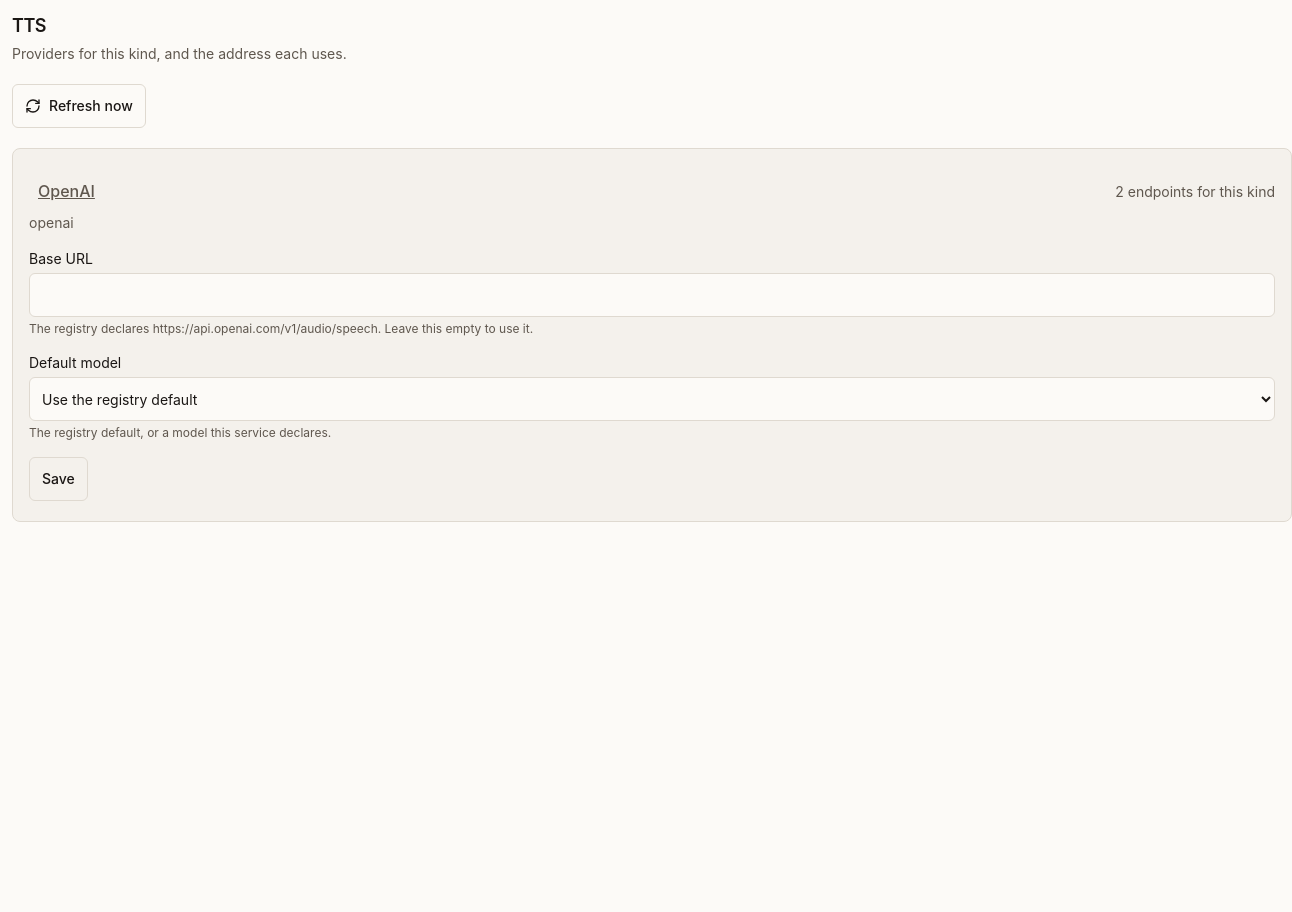
Test: what reaches the wire › refuses a value the API could not dial, without asking the server
This screenshot has width=1292, height=912.
Type "api.example.com/v1" into the field labelled "Base URL" at (652, 295), box [29,273,1275,317]
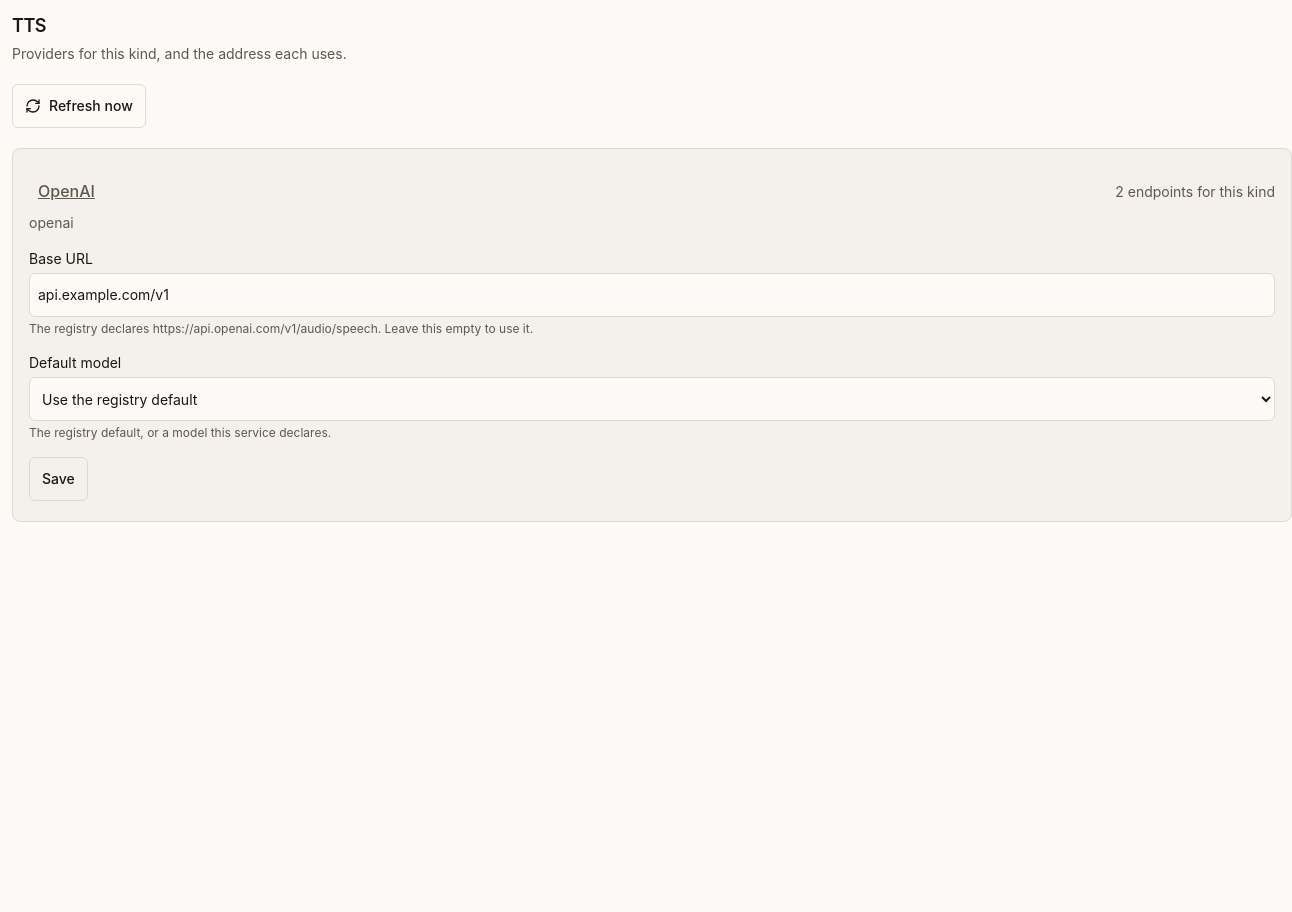
Click the button "Save" at (58, 479), box [29,457,88,501]
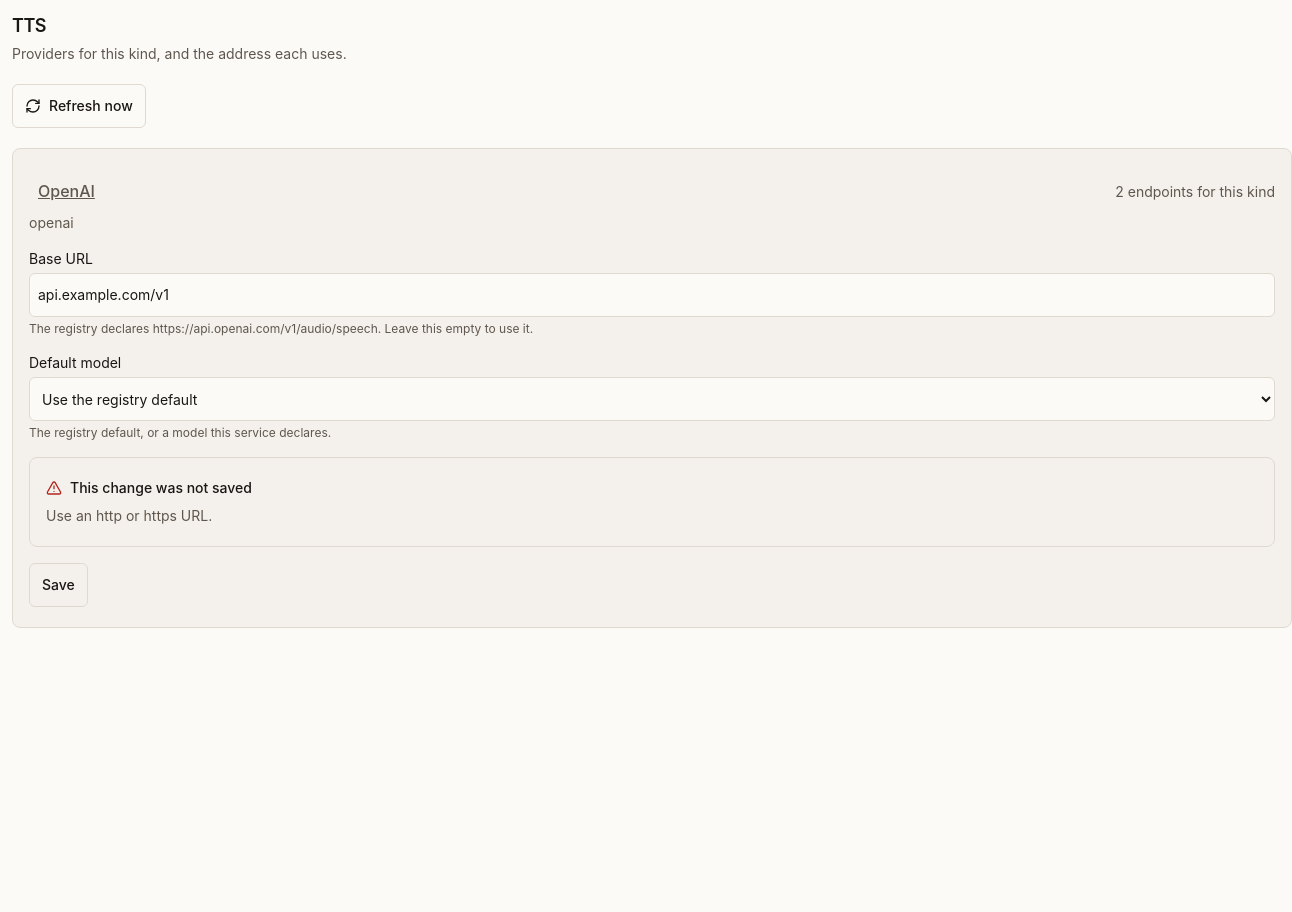
Check: the text "Use an http or https URL." is shown, box [46,507,212,524]
